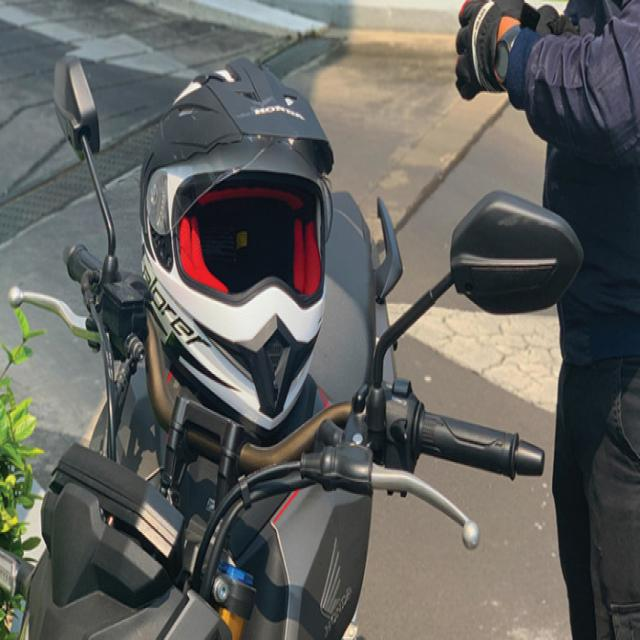Helm: (136, 60, 337, 439)
